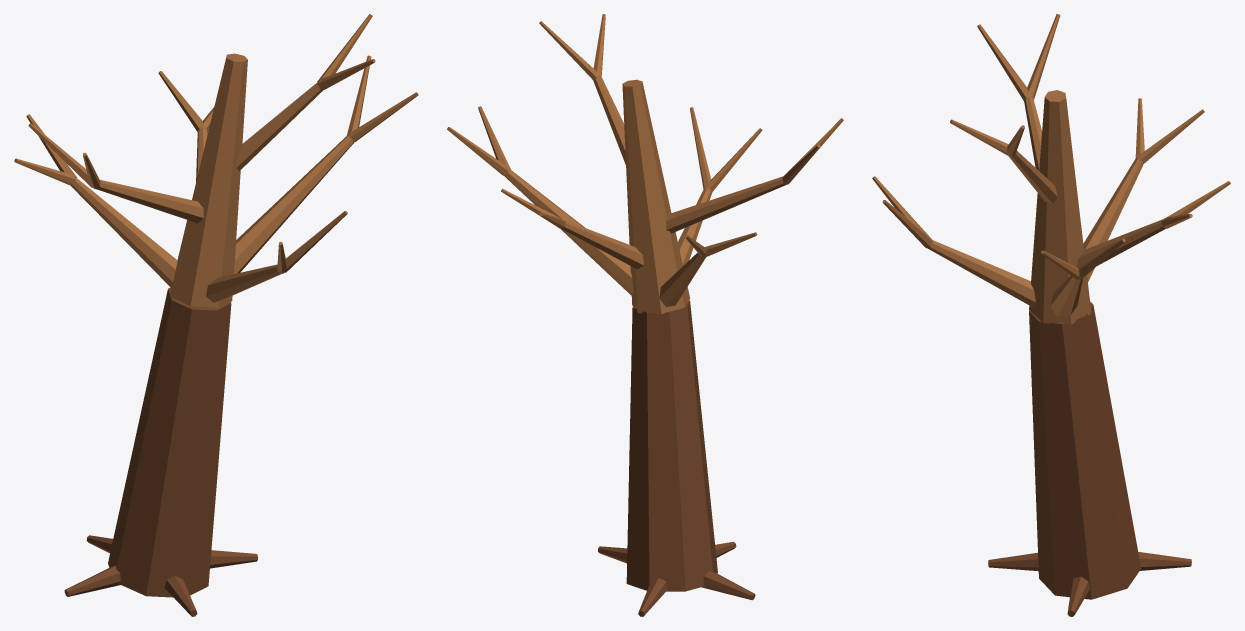
Rendered from tree_bare_d.glb.
3 renders of one model, left to right at view 1: azimuth 30°, elevation 25°; view 2: azimuth 150°, elevation 25°; view 3: azimuth 270°, elevation 25°, orthographic. The views are drawn at different scales.
Visible parts, largest first — view 1: Trunk_Lower.009, Trunk_Upper.009, Branch_1.003, Branch_2.003, Branch_5.003, Branch_6.003, Branch_3.003, Root_3.009, Root_1.009, Root_4.009, Twig_3_3.003, Twig_1_1.003 (+4 smaller); view 2: Trunk_Lower.009, Trunk_Upper.009, Branch_1.003, Branch_5.003, Branch_4.003, Branch_2.003, Branch_6.003, Root_3.009, Branch_3.003, Twig_3_3.003, Root_2.009, Twig_1_3.003 (+1 smaller); view 3: Trunk_Lower.009, Trunk_Upper.009, Branch_3.003, Branch_2.003, Branch_4.003, Branch_6.003, Branch_1.003, Branch_5.003, Root_2.009, Twig_5_1.003, Root_4.009, Twig_5_3.003 (+4 smaller).
Boxes of the visible parts, left/top/right/bottom form: Trunk_Lower.009: left=108, top=287, right=231, bottom=597; Trunk_Upper.009: left=169, top=53, right=247, bottom=308; Branch_1.003: left=234, top=135, right=353, bottom=273; Branch_2.003: left=70, top=177, right=177, bottom=287; Branch_5.003: left=96, top=180, right=203, bottom=223; Branch_6.003: left=236, top=82, right=323, bottom=171; Branch_3.003: left=206, top=264, right=281, bottom=302; Root_3.009: left=64, top=565, right=120, bottom=596; Root_1.009: left=210, top=550, right=257, bottom=568; Root_4.009: left=164, top=576, right=197, bottom=616; Twig_3_3.003: left=285, top=211, right=347, bottom=272; Twig_1_1.003: left=348, top=92, right=418, bottom=142; Trunk_Lower.009: left=626, top=300, right=717, bottom=591; Trunk_Upper.009: left=622, top=79, right=690, bottom=314; Branch_1.003: left=504, top=169, right=633, bottom=295; Branch_5.003: left=666, top=176, right=786, bottom=233; Branch_4.003: left=561, top=220, right=643, bottom=269; Branch_2.003: left=659, top=252, right=705, bottom=306; Branch_6.003: left=593, top=75, right=625, bottom=164; Root_3.009: left=701, top=571, right=755, bottom=600; Branch_3.003: left=678, top=187, right=712, bottom=265; Twig_3_3.003: left=690, top=107, right=711, bottom=188; Root_2.009: left=638, top=578, right=667, bottom=616; Twig_1_3.003: left=447, top=127, right=509, bottom=175; Trunk_Lower.009: left=1029, top=301, right=1141, bottom=599; Trunk_Upper.009: left=1029, top=90, right=1091, bottom=324; Branch_3.003: left=927, top=240, right=1035, bottom=306; Branch_2.003: left=1083, top=158, right=1143, bottom=281; Branch_4.003: left=1076, top=219, right=1166, bottom=267; Branch_6.003: left=1008, top=151, right=1057, bottom=203; Branch_1.003: left=1050, top=276, right=1082, bottom=316; Branch_5.003: left=1024, top=96, right=1041, bottom=170; Root_2.009: left=1138, top=552, right=1191, bottom=570; Twig_5_1.003: left=1027, top=14, right=1060, bottom=99; Root_4.009: left=988, top=552, right=1038, bottom=571; Twig_5_3.003: left=977, top=24, right=1031, bottom=101.
Bounding box in the file's own units: 3.89 × 5.34 × 3.21.
